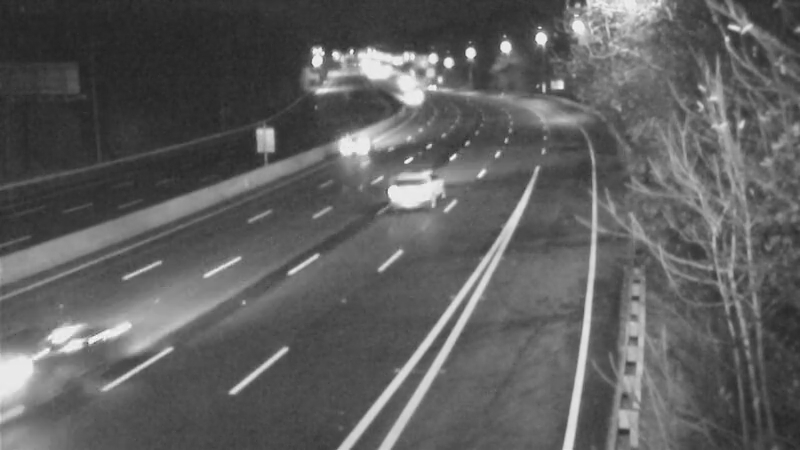vehicle: (8, 307, 118, 417), (365, 156, 445, 236), (389, 76, 439, 126), (333, 122, 383, 172)
